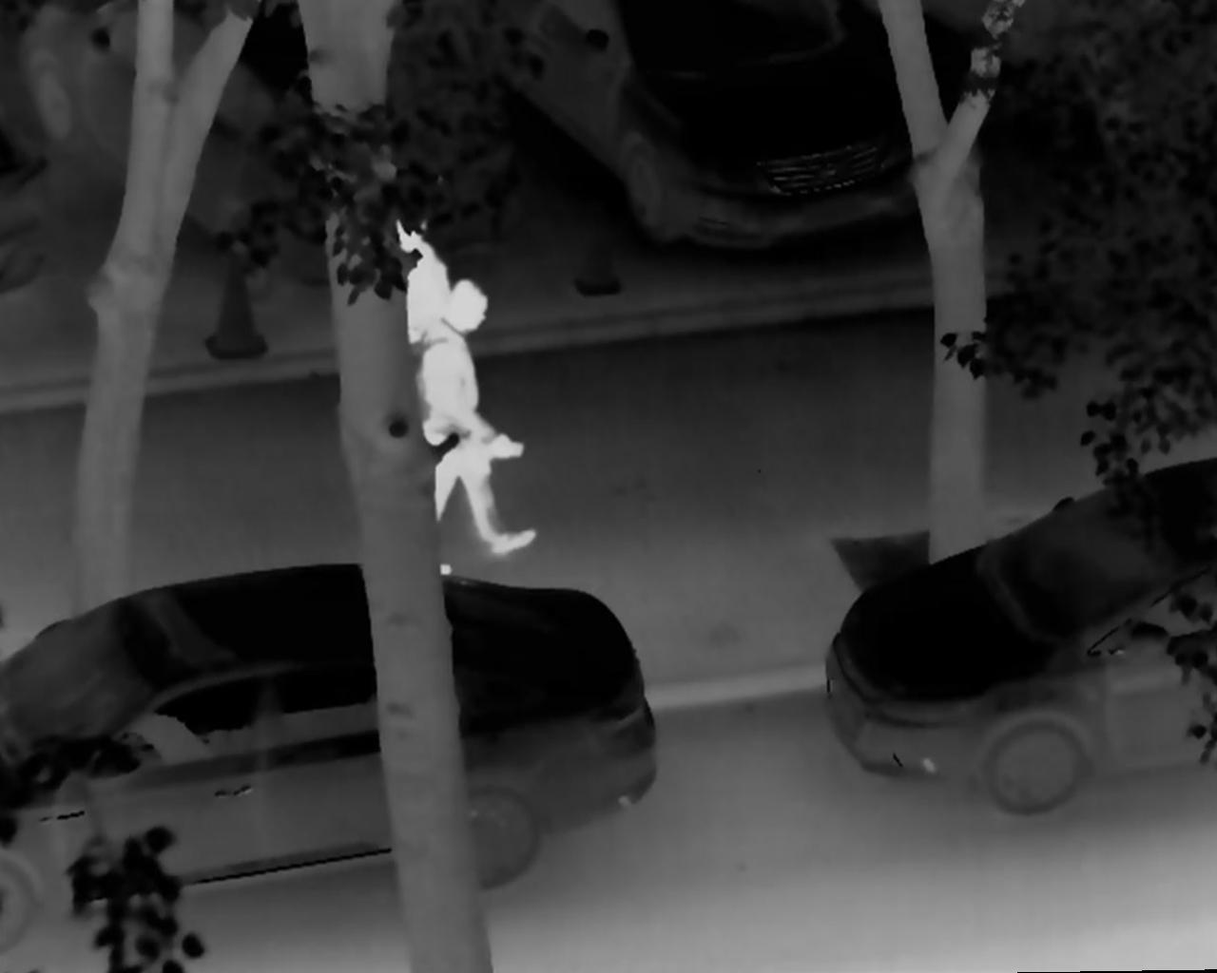person: (403, 280, 528, 580), (398, 220, 467, 470)
